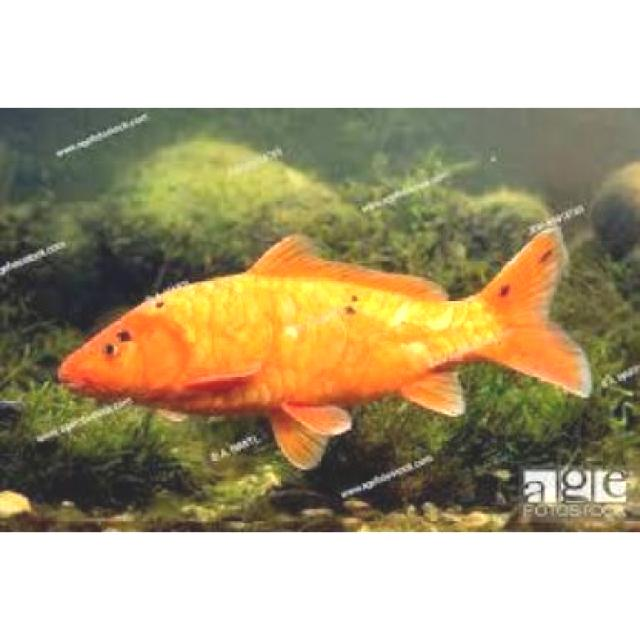ikan-mas: (51, 222, 586, 464)
